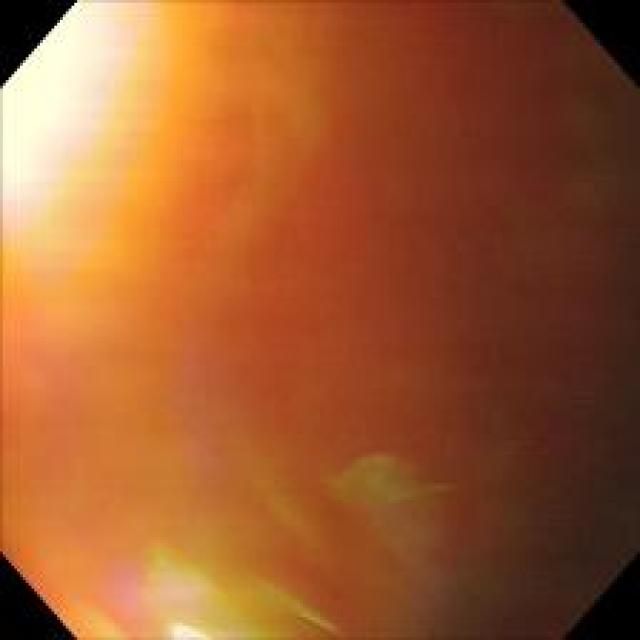color misalignment: (5, 11, 635, 630), (72, 545, 355, 634), (341, 450, 482, 598), (228, 65, 325, 248), (230, 425, 324, 551)
saturation: (2, 15, 126, 219)
